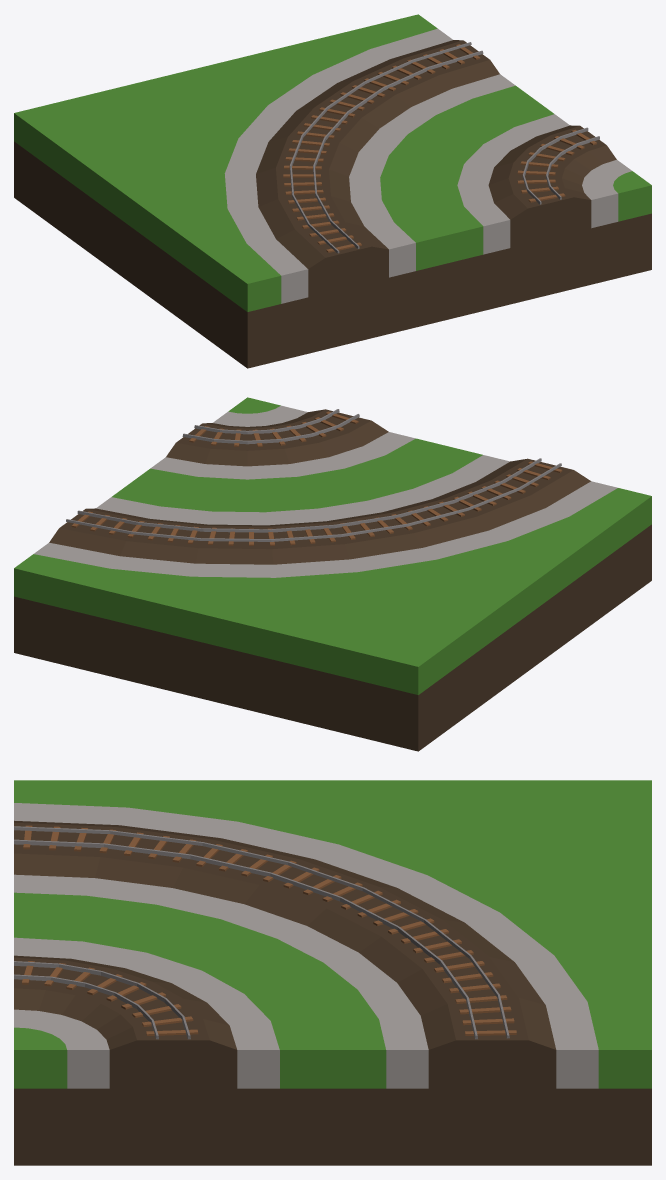
File: tile-rail-curve-double.glb
3 views of the same model, one above another, from view 1: azimuth 30°, elevation 25°; view 2: azimuth 150°, elevation 25°; view 3: azimuth 270°, elevation 25° (orthographic). The views are drawn at different scales.
Parts seen in each view (by area): view 1: tile-rail-curve-double; view 2: tile-rail-curve-double; view 3: tile-rail-curve-double.
Boxes of the visible parts, bbox=[...] form: tile-rail-curve-double: bbox=[14, 14, 651, 368]; tile-rail-curve-double: bbox=[14, 397, 651, 751]; tile-rail-curve-double: bbox=[14, 780, 651, 1165].
Bounding box in the file's own units: 30 × 6.75 × 30.
Materials: 1 (1 with a texture image).
